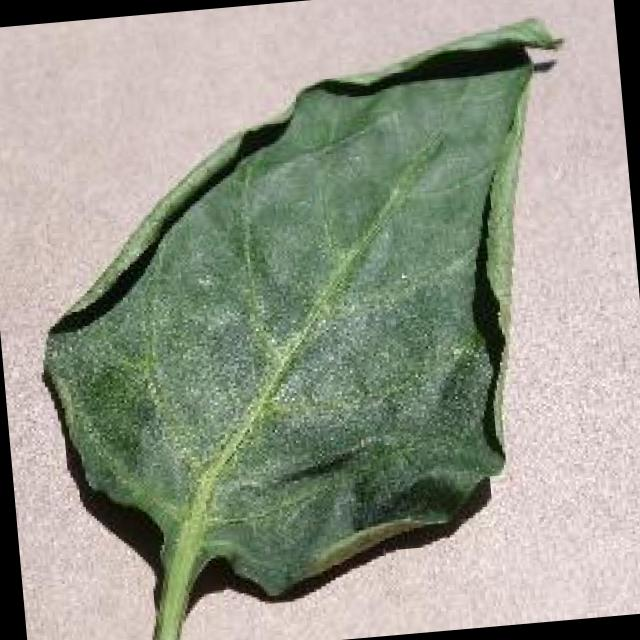Chilli_Healthy: (11, 10, 612, 640)
